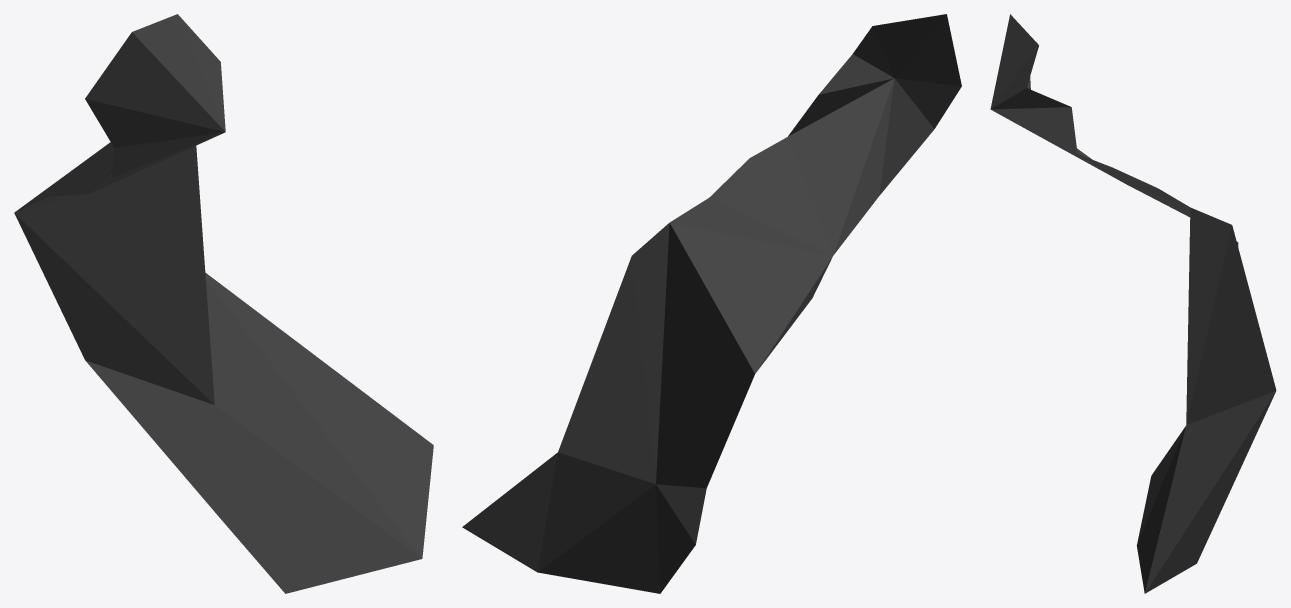
Rendered from A_repro_A_repro.glb.
3 renders of one model, left to right at view 1: azimuth 30°, elevation 25°; view 2: azimuth 150°, elevation 25°; view 3: azimuth 270°, elevation 25°, orthographic. The views are drawn at different scales.
Parts seen in each view (by area): view 1: A_repro_A_repro; view 2: A_repro_A_repro; view 3: A_repro_A_repro.
Boxes of the visible parts, box(x1,y1,x2,y2) form: A_repro_A_repro: box(14, 14, 433, 593); A_repro_A_repro: box(462, 14, 961, 593); A_repro_A_repro: box(990, 14, 1276, 593).
Size of the model in its own units: 0.00477 by 0.00666 by 0.0038.
Materials: 1 (1 with a texture image).
